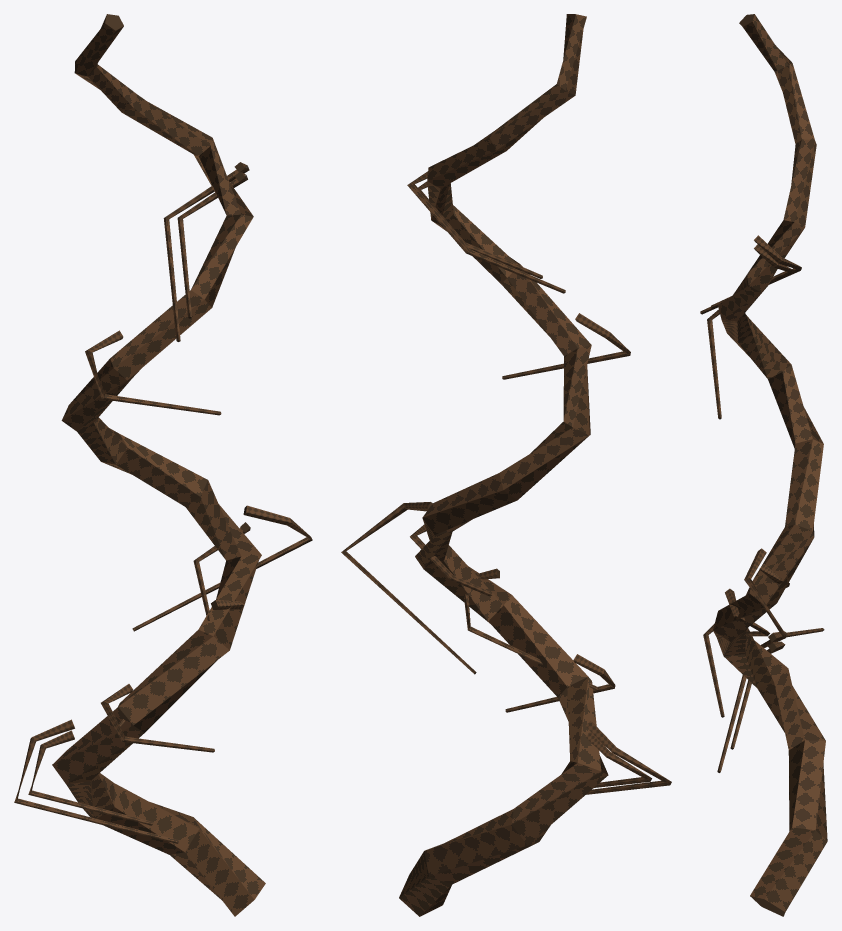
File: FLO-12_Enredadera_de_cordel.gltf
3 views of the same model, side by side, from view 1: azimuth 30°, elevation 25°; view 2: azimuth 150°, elevation 25°; view 3: azimuth 270°, elevation 25° (orthographic). The views are drawn at different scales.
Visible parts, largest first — view 1: FLO-12_Enredadera_de_cordel; view 2: FLO-12_Enredadera_de_cordel; view 3: FLO-12_Enredadera_de_cordel.
Boxes of the visible parts, box(x1,y1,x2,y2) form: FLO-12_Enredadera_de_cordel: box(14, 14, 312, 916); FLO-12_Enredadera_de_cordel: box(341, 14, 671, 916); FLO-12_Enredadera_de_cordel: box(700, 14, 827, 916).
Bounding box in the file's own units: 1.08 × 3.07 × 0.4208.
1 material, 1 textured.
